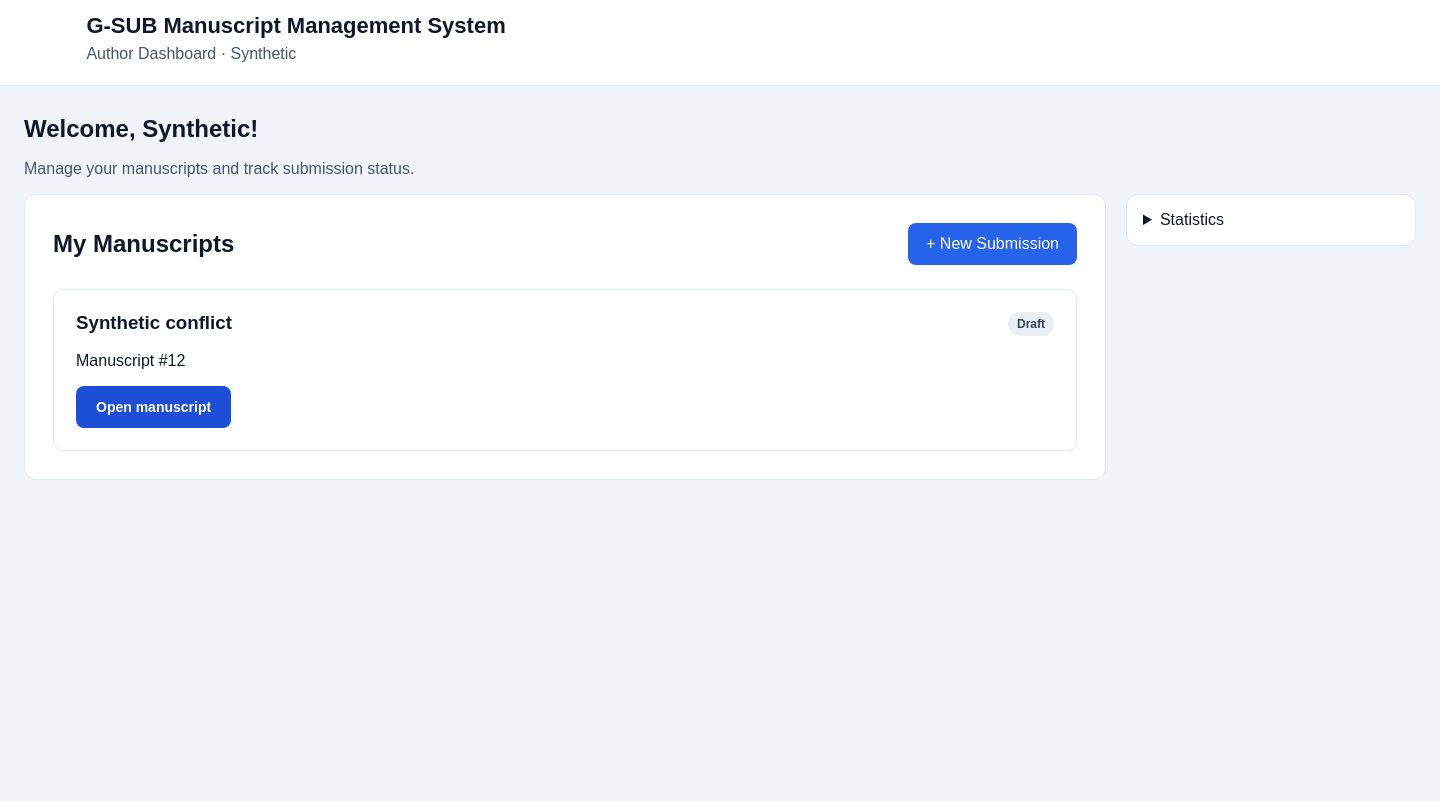
Test: rejects artificial conflicting selections before draft workflow requests
Click the button "Open manuscript" at (154, 407), box [76,386,231,428]
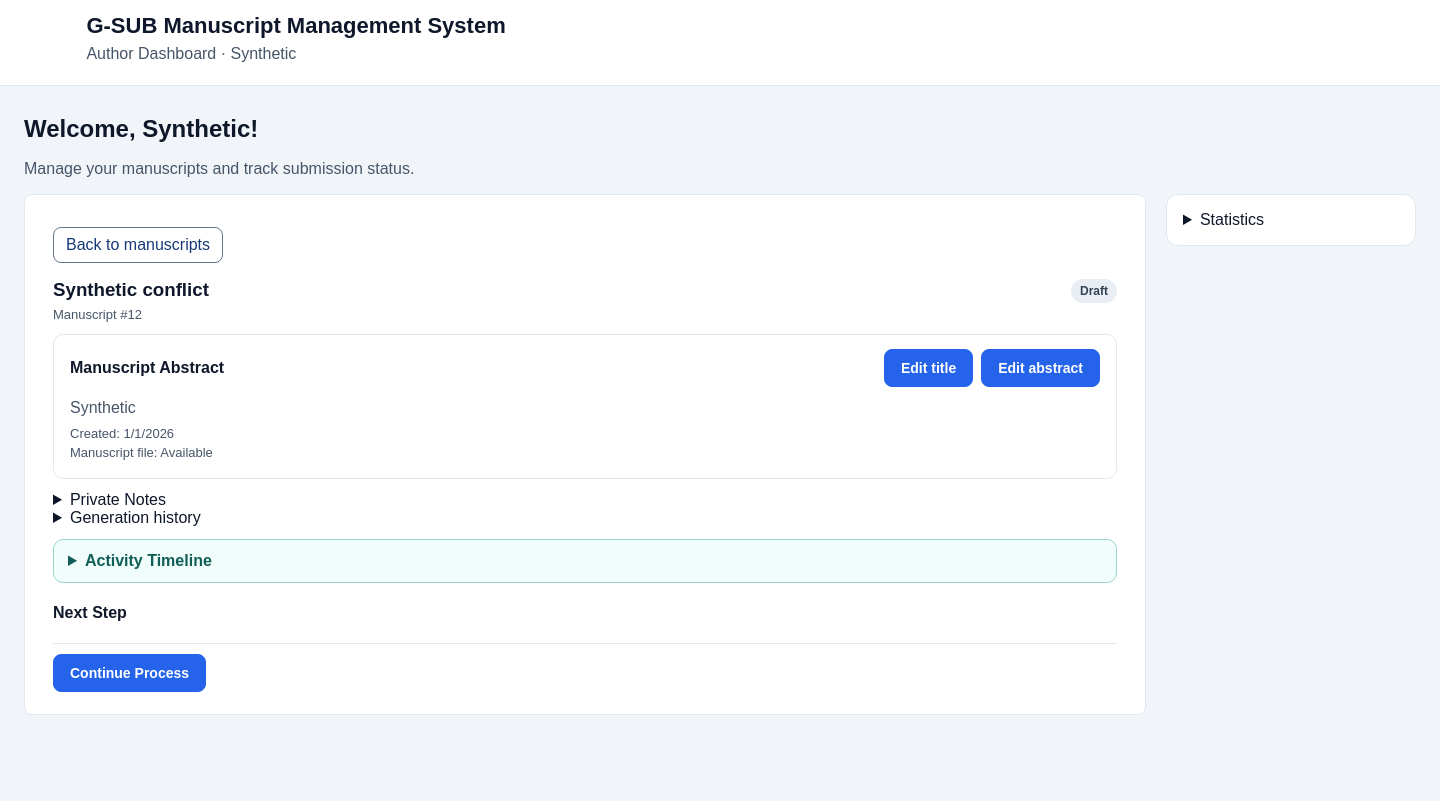
Click the button "Continue Process" at (130, 673), box [53,654,206,692]
(page scrolled)
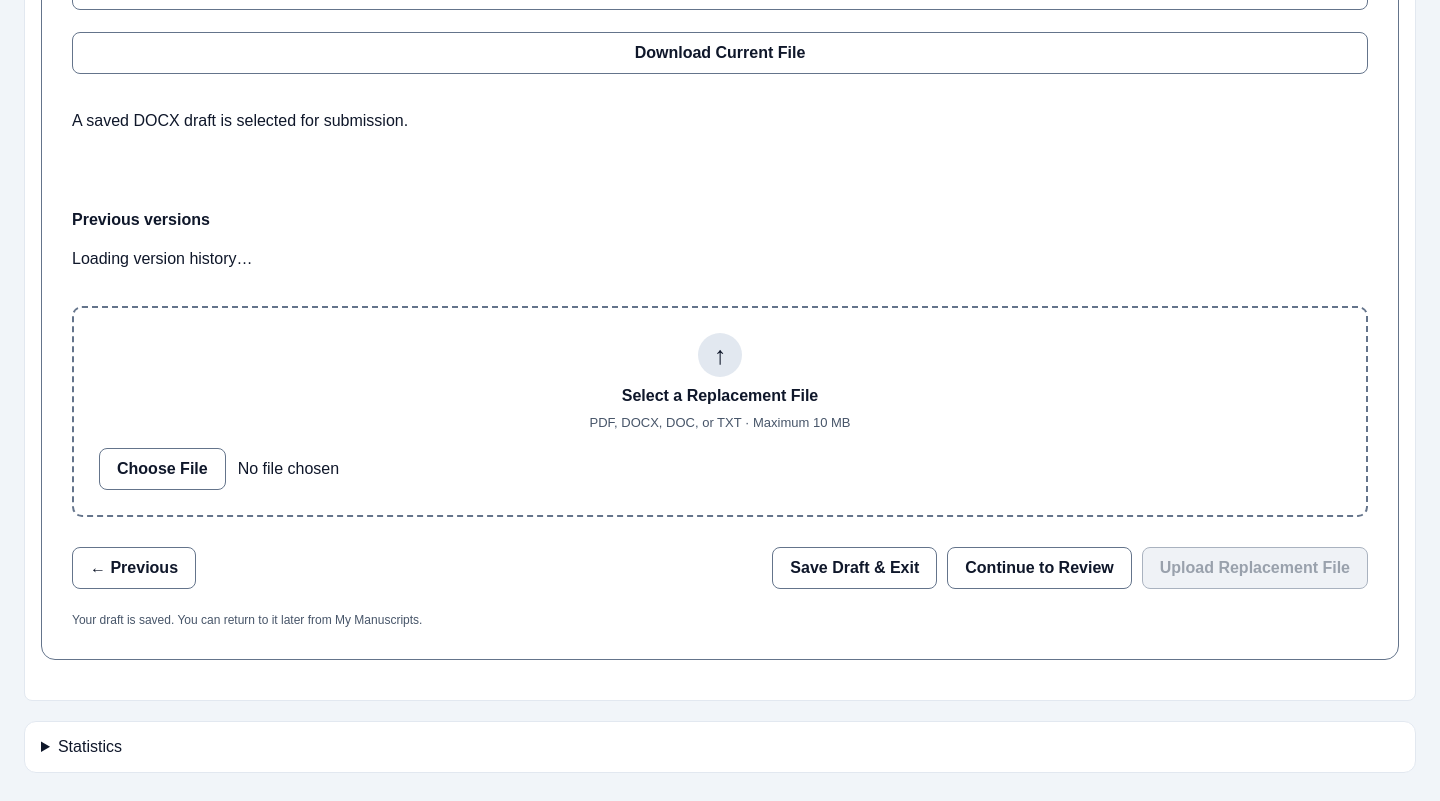
Click the button "Continue to Review" at (1040, 568), box [947,547,1132,589]
(page scrolled)
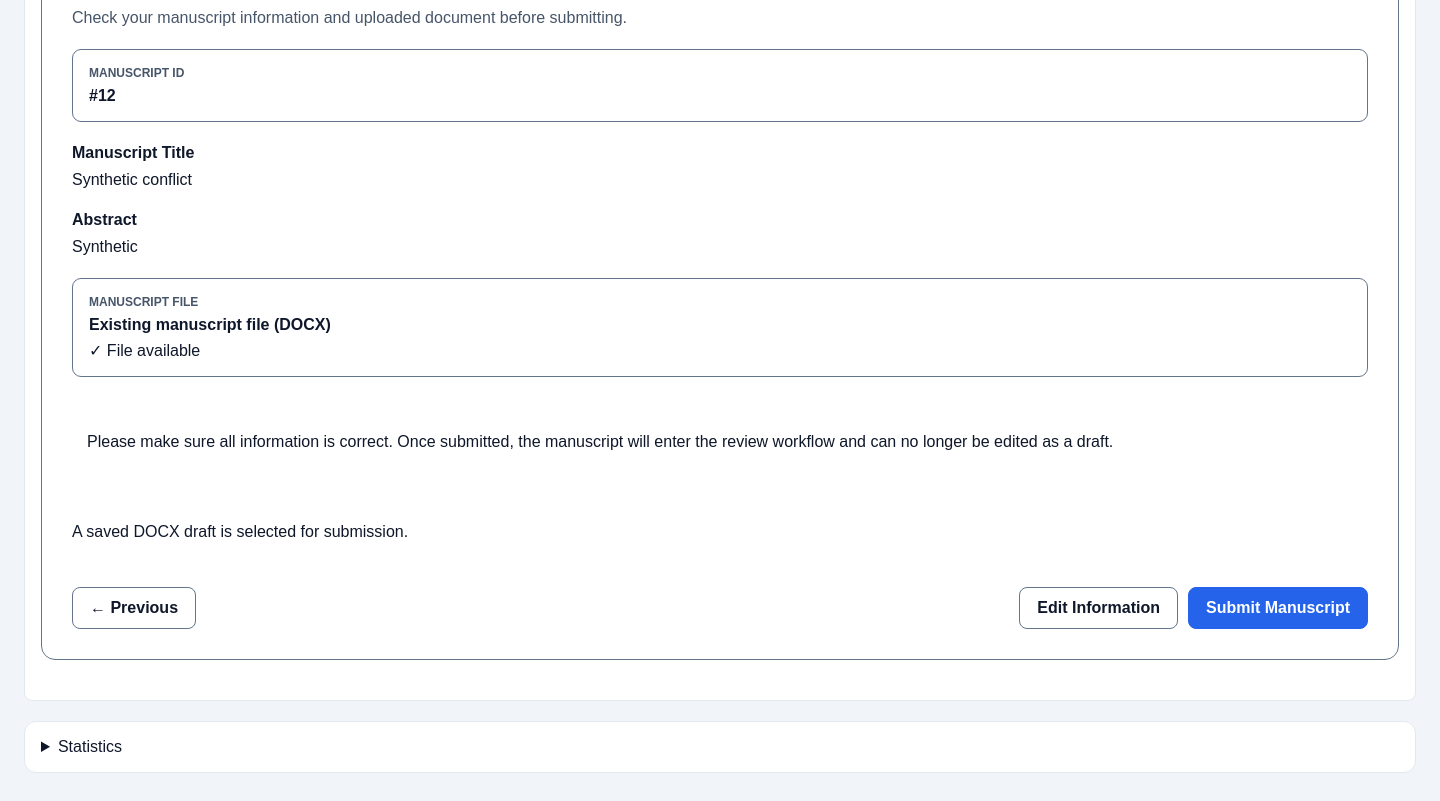
Click the button "Submit Manuscript" at (1278, 608), box [1188,587,1368,629]
(page scrolled)
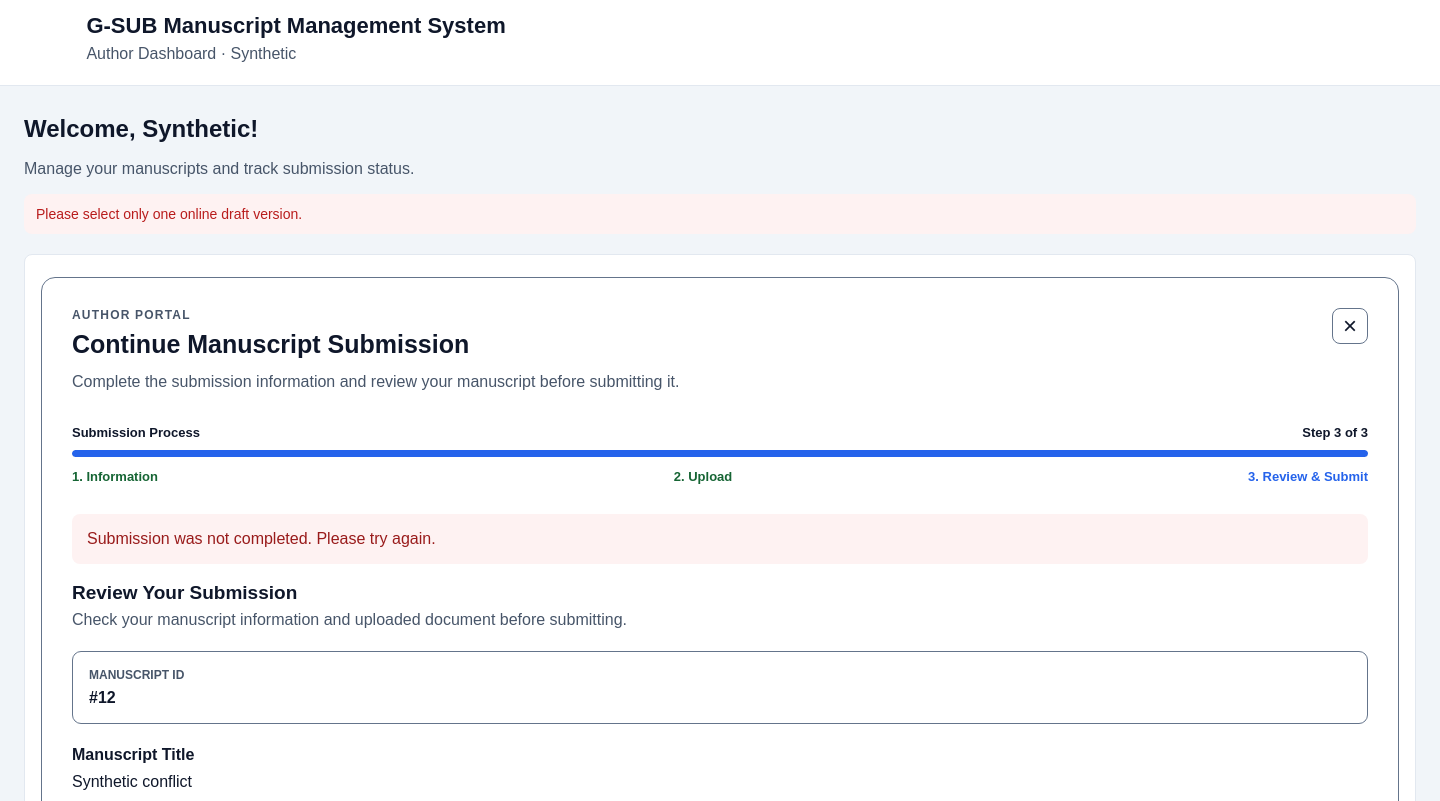
Now the text "Please select only one online draft version." is shown, box [24,194,1416,234]
